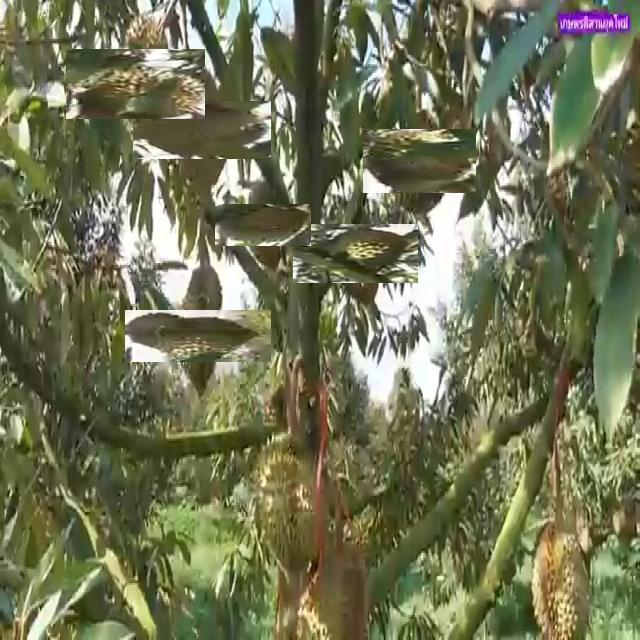durian: (249, 426, 337, 578), (83, 32, 187, 136), (149, 286, 248, 386), (153, 81, 251, 180), (309, 207, 402, 300), (290, 534, 373, 635), (528, 515, 596, 638), (375, 117, 463, 205), (229, 190, 298, 260)
